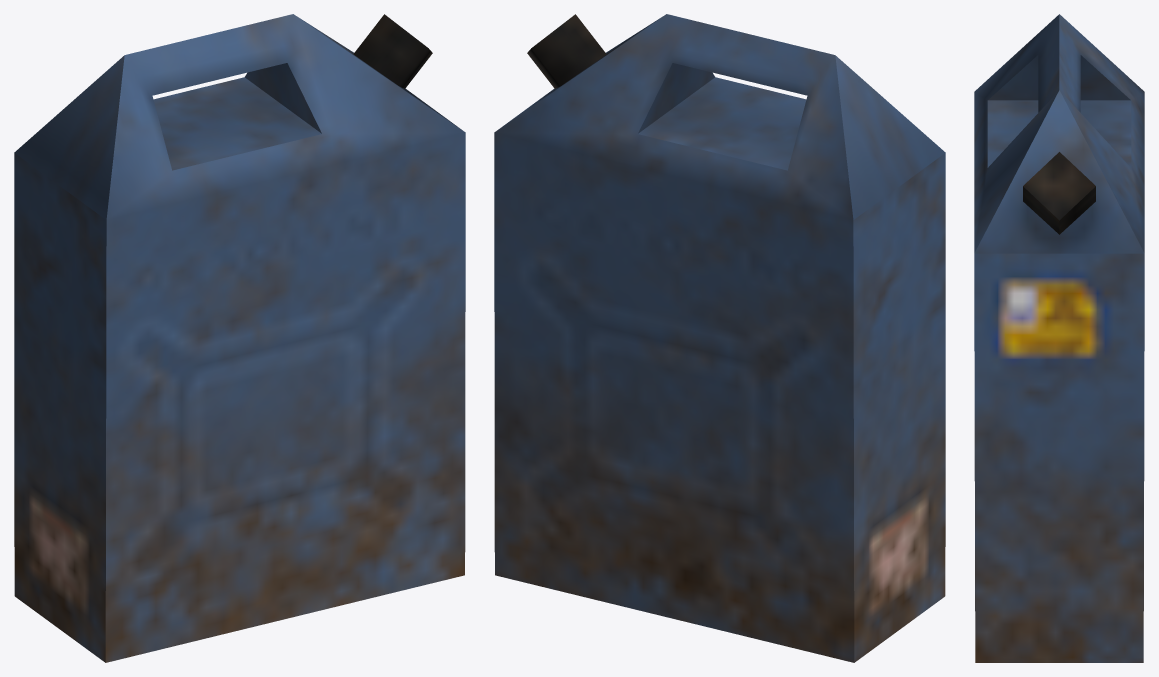
Rendered from Can2_LOD1.fbx.
The picture shows the model from 3 angles, left to right: view 1: azimuth 30°, elevation 25°; view 2: azimuth 150°, elevation 25°; view 3: azimuth 270°, elevation 25°; orthographic projection. The views are drawn at different scales.
Visible parts, largest first — view 1: polySurface63; view 2: polySurface63; view 3: polySurface63.
Part boxes in pixels (x1,y1,x2,y2): polySurface63: (14,14,465,662); polySurface63: (494,14,945,662); polySurface63: (974,14,1144,662).
Bounding box in the file's own units: 0.6704 × 0.96 × 0.2874.
